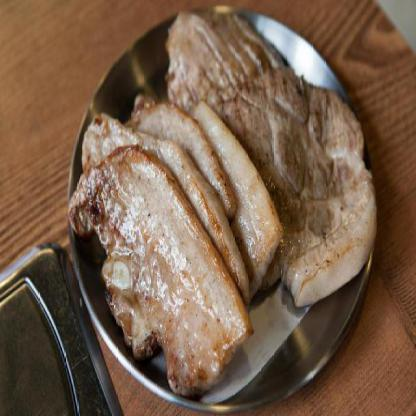pork: (87, 8, 372, 388)
